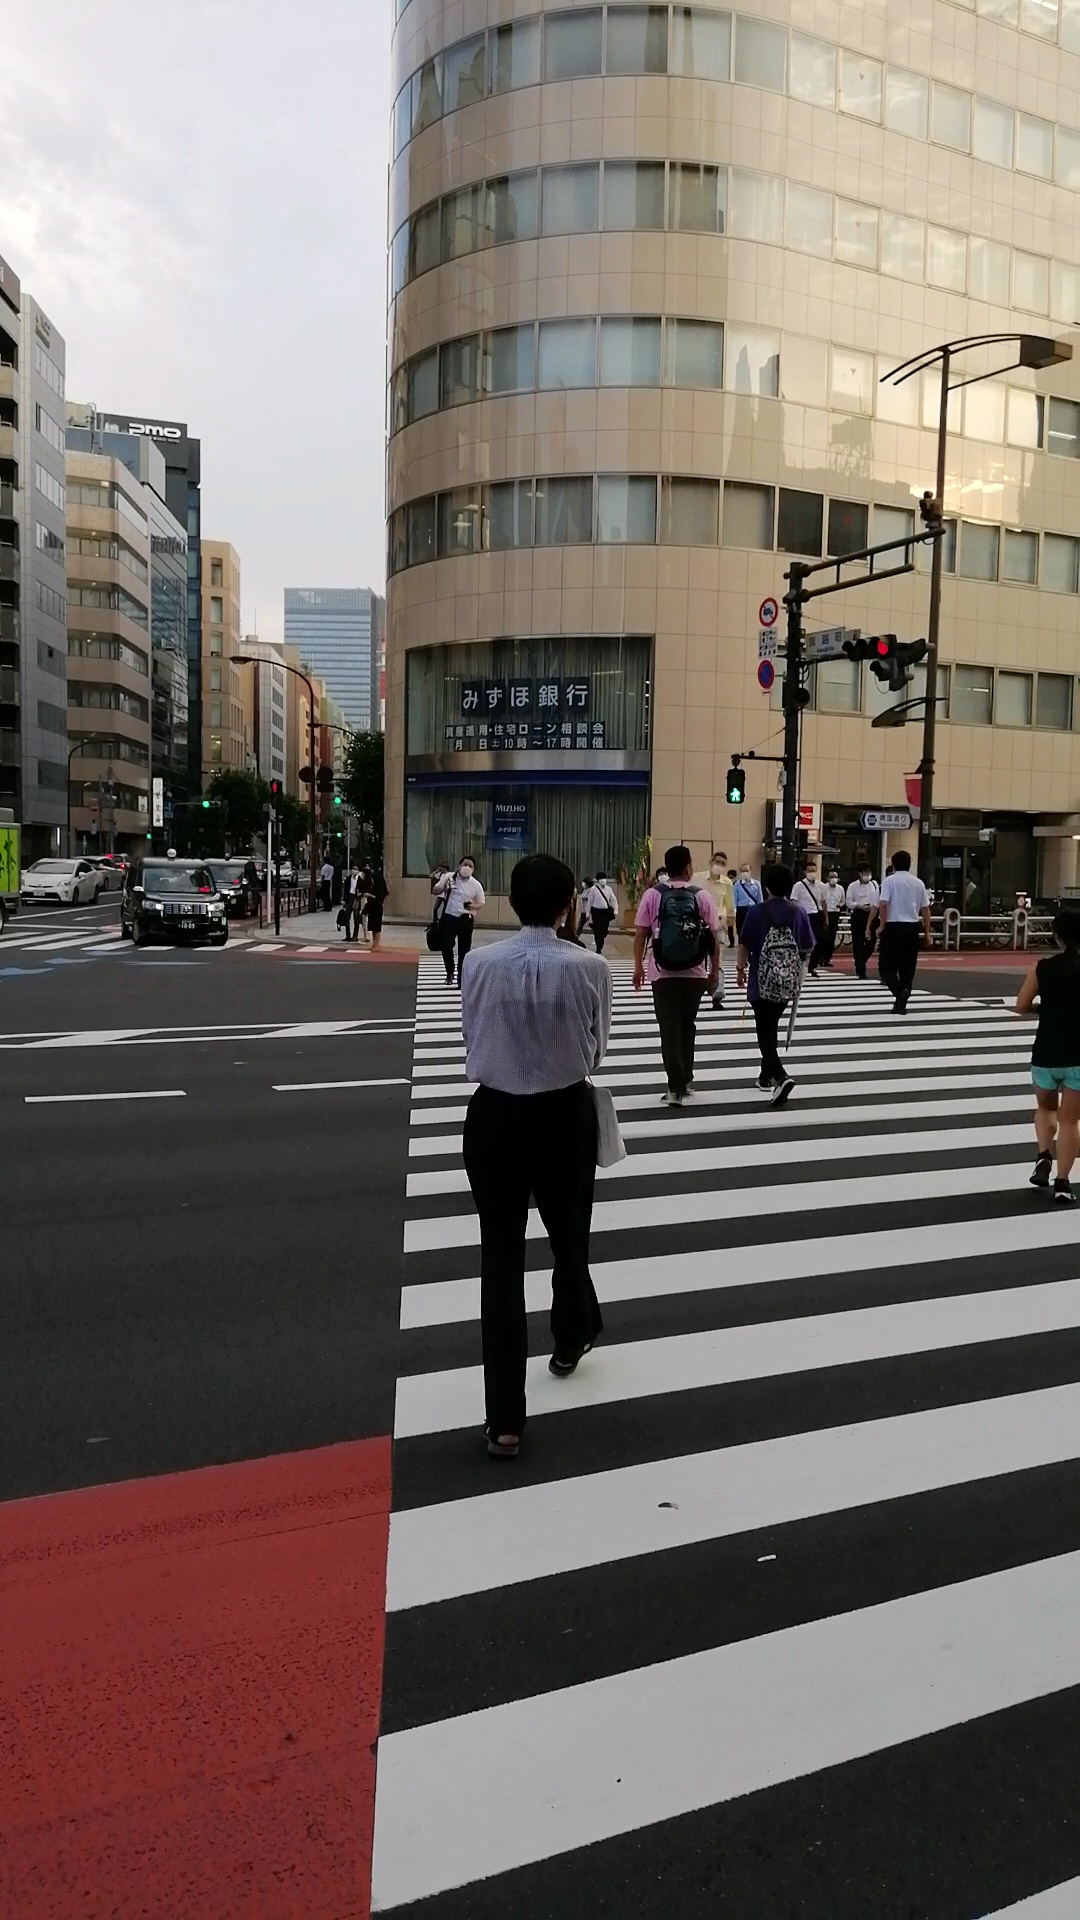green: (727, 767, 745, 804)
